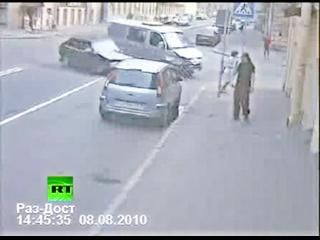Car: (109, 20, 202, 72), (102, 66, 184, 124), (60, 37, 132, 73), (198, 26, 219, 45)
Minor Accident: (59, 22, 203, 72)
